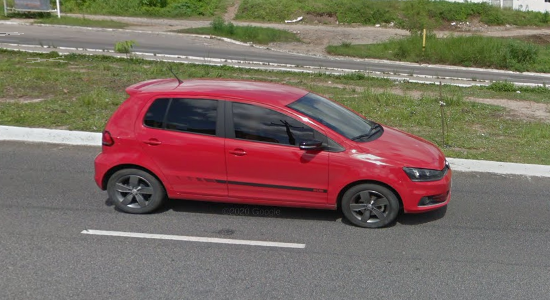car: (91, 60, 456, 236)
